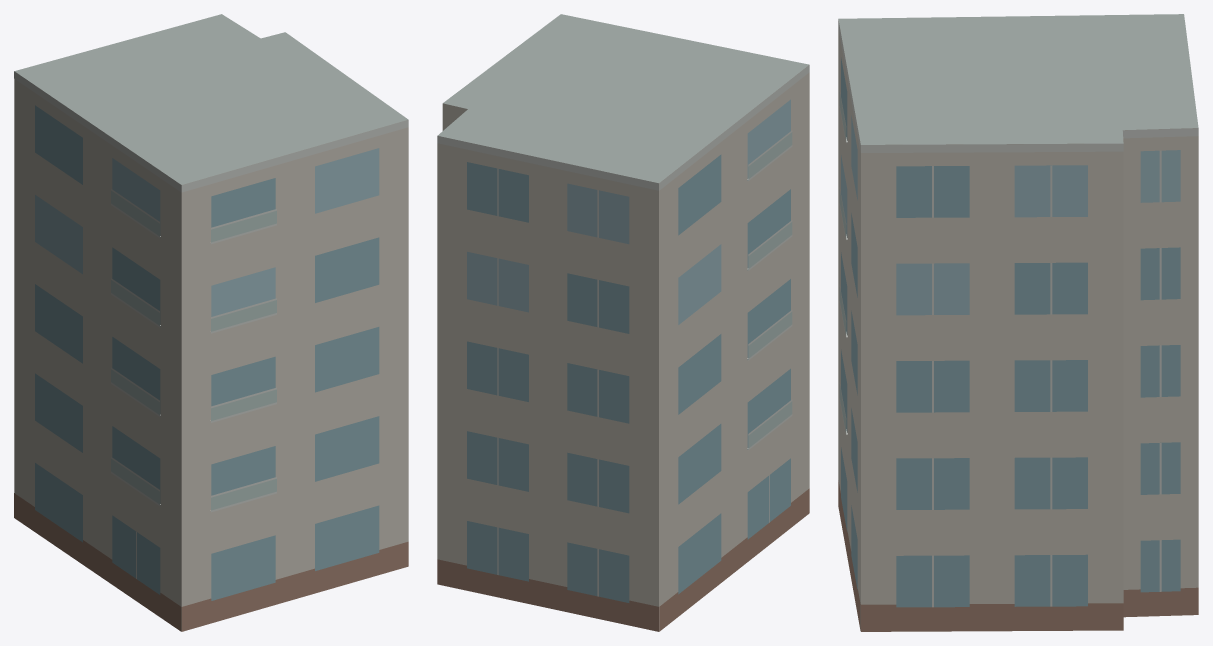
Rendered from survey-upis-32951358.glb.
3 views of the same model, side by side, from view 1: azimuth 30°, elevation 25°; view 2: azimuth 150°, elevation 25°; view 3: azimuth 270°, elevation 25° (orthographic). The views are drawn at different scales.
Parts seen in each view (by area): view 1: survey-upis-32951358.tmp; view 2: survey-upis-32951358.tmp; view 3: survey-upis-32951358.tmp.
Part boxes in pixels (<box>): survey-upis-32951358.tmp: <box>14,14,408,631</box>; survey-upis-32951358.tmp: <box>437,14,809,631</box>; survey-upis-32951358.tmp: <box>838,14,1198,631</box>.
Bounding box in the file's own units: 8.37 × 14.5 × 9.73.
